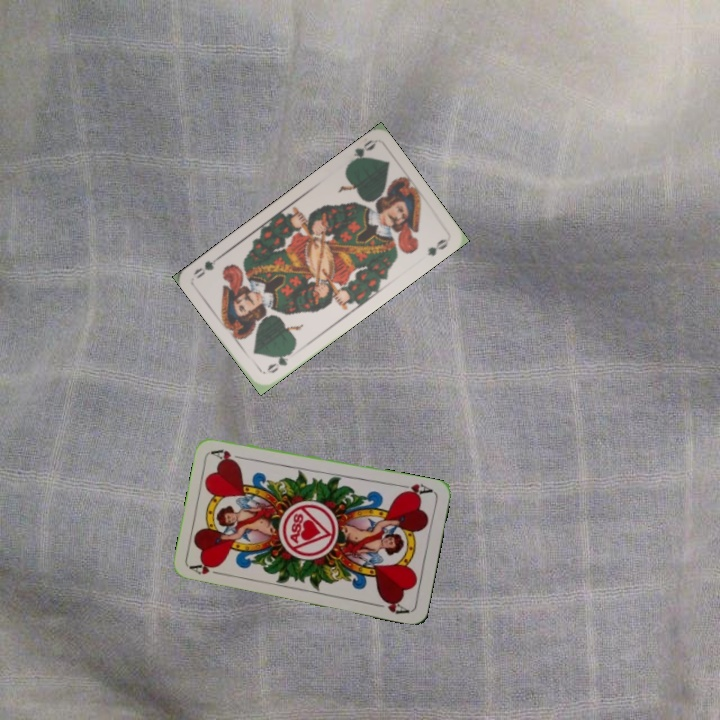GO: (343, 136, 378, 168), (263, 346, 295, 376)
HA: (395, 480, 435, 499), (187, 559, 227, 578)
